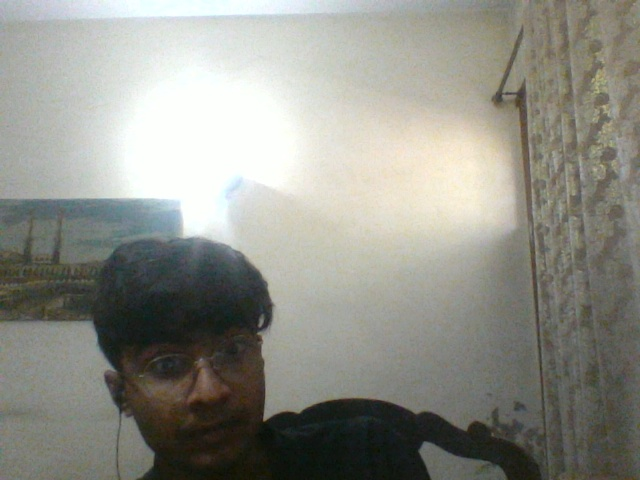surprised: (140, 326, 271, 461)
